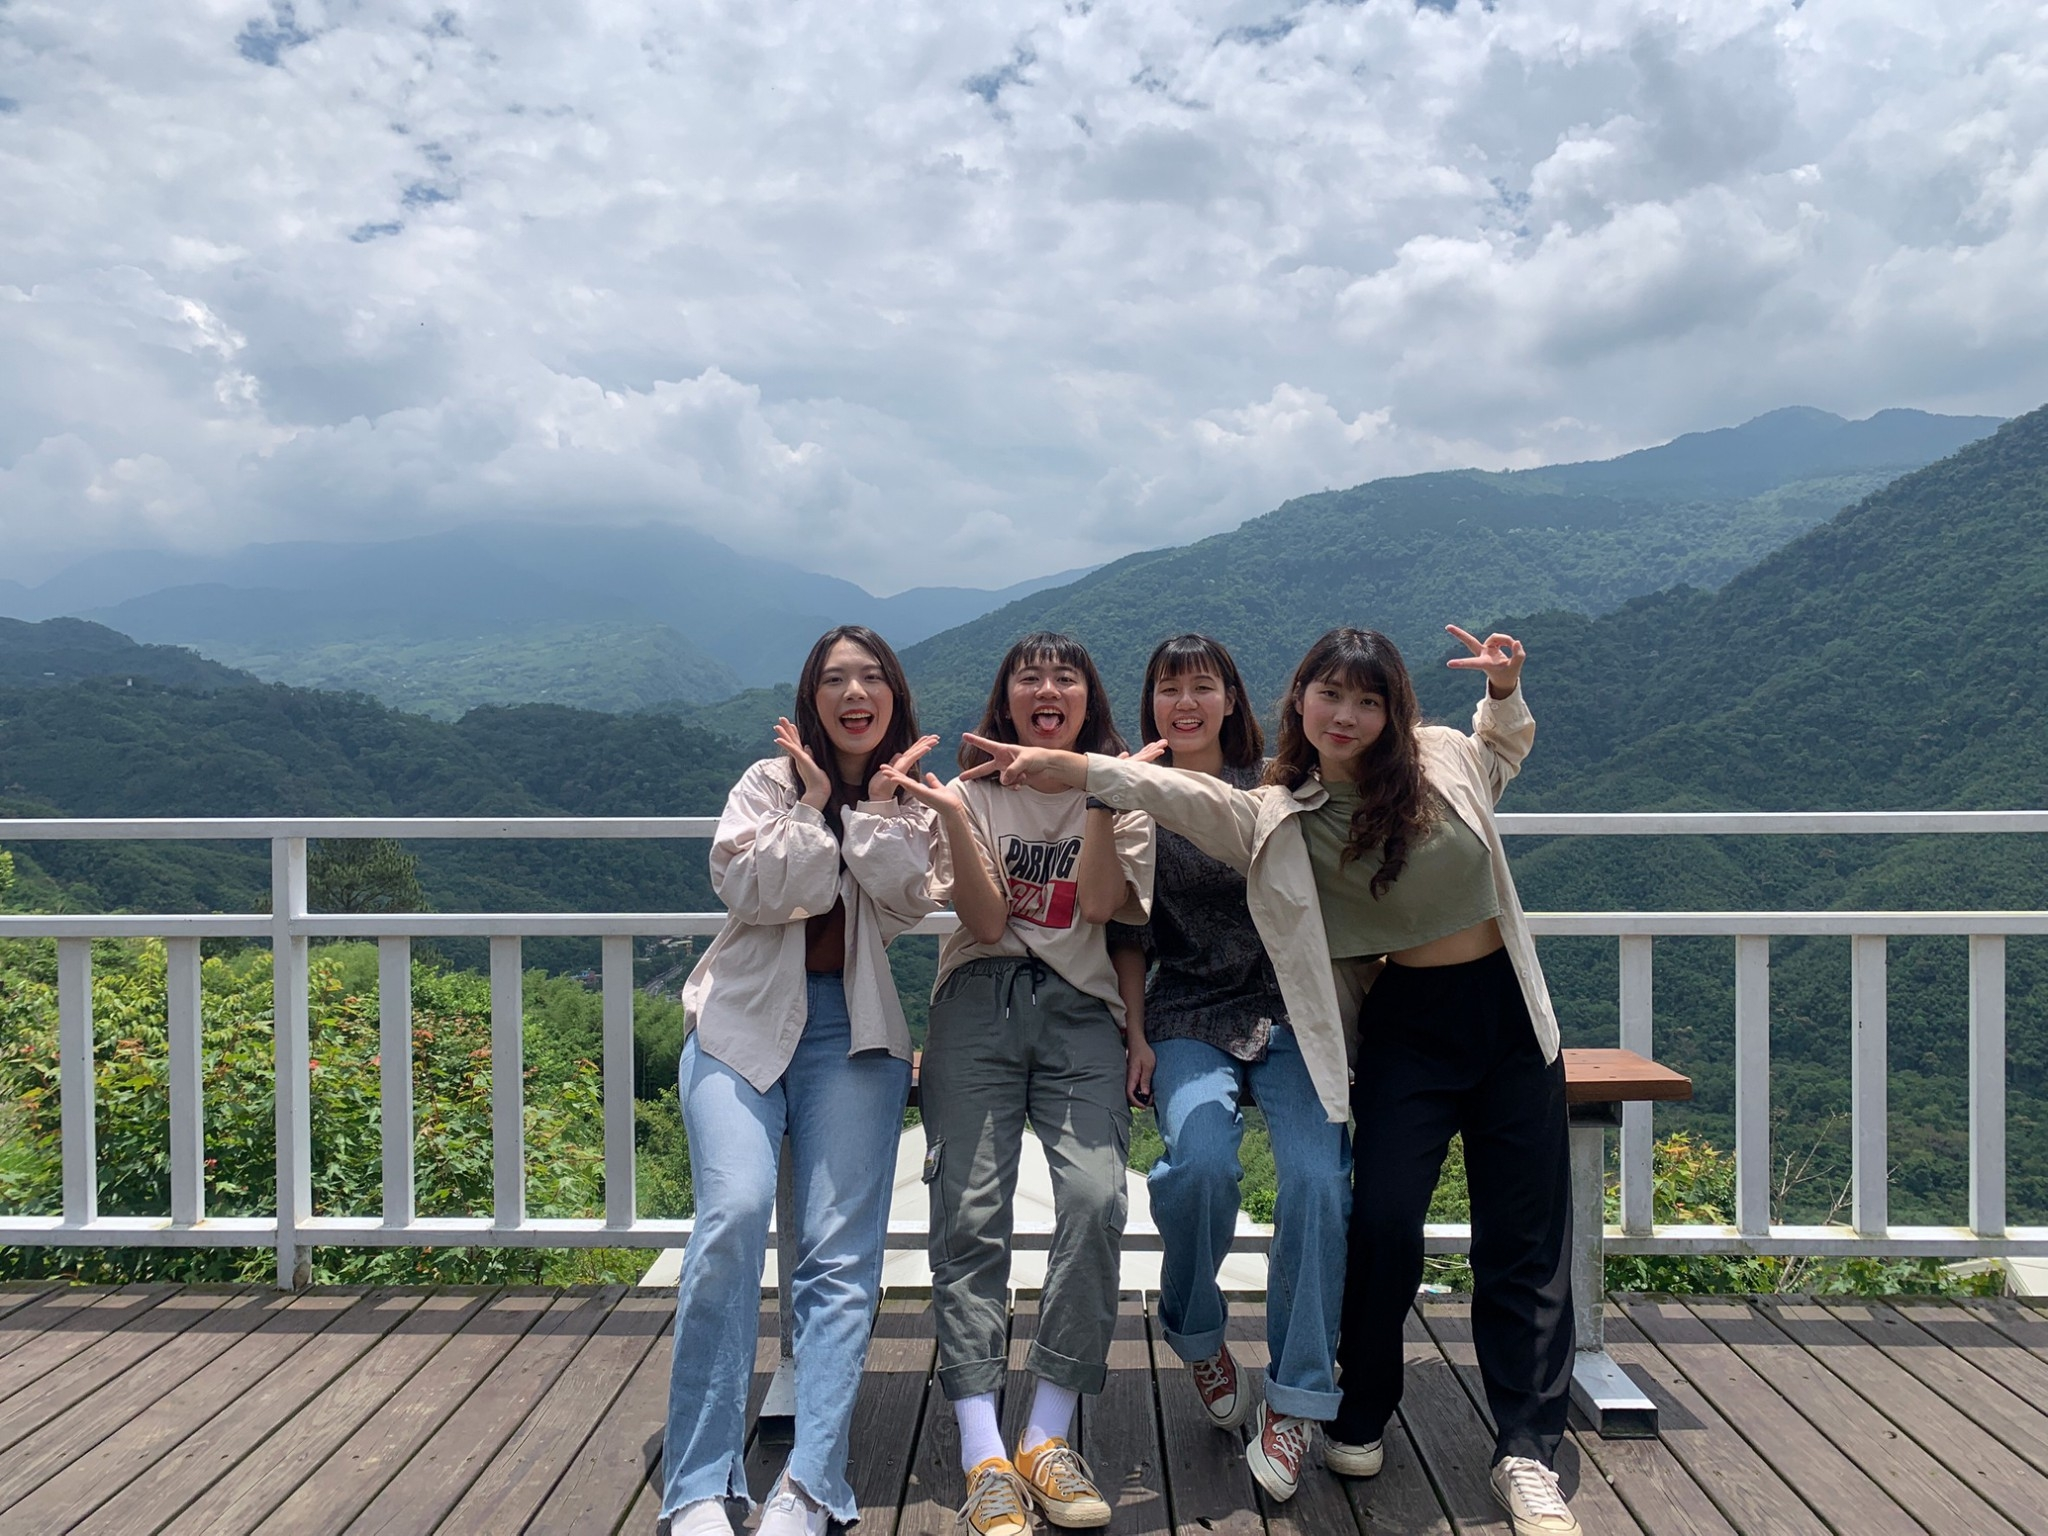people: (1290, 581, 1581, 1536), (1146, 628, 1334, 1505), (954, 634, 1113, 1536), (716, 628, 869, 1536)
